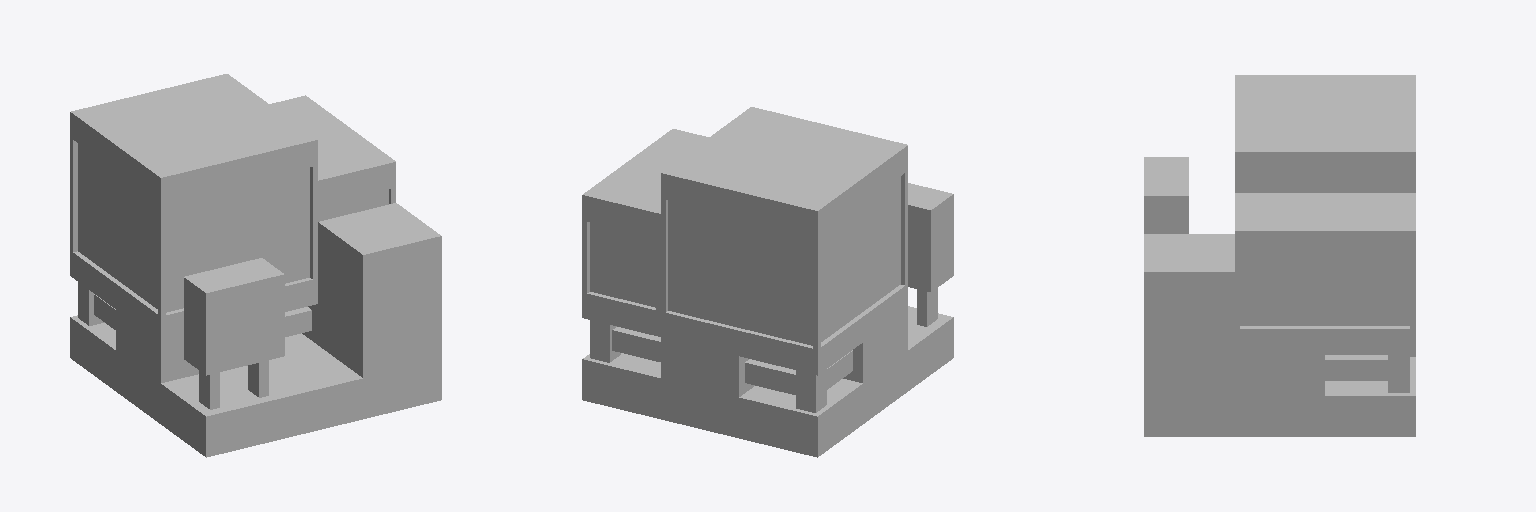
The model's file is distiller_mirrored.obj.
3 views of the same model, side by side, from view 1: azimuth 30°, elevation 25°; view 2: azimuth 150°, elevation 25°; view 3: azimuth 270°, elevation 25° (orthographic).
Parts seen in each view (by area): view 1: base; view 2: base; view 3: base.
Boxes of the visible parts, box(x1,y1,x2,y2) form: base: box(70, 74, 441, 457); base: box(582, 107, 953, 457); base: box(1144, 75, 1415, 436).
Bounding box in the file's own units: 3 × 3 × 3.